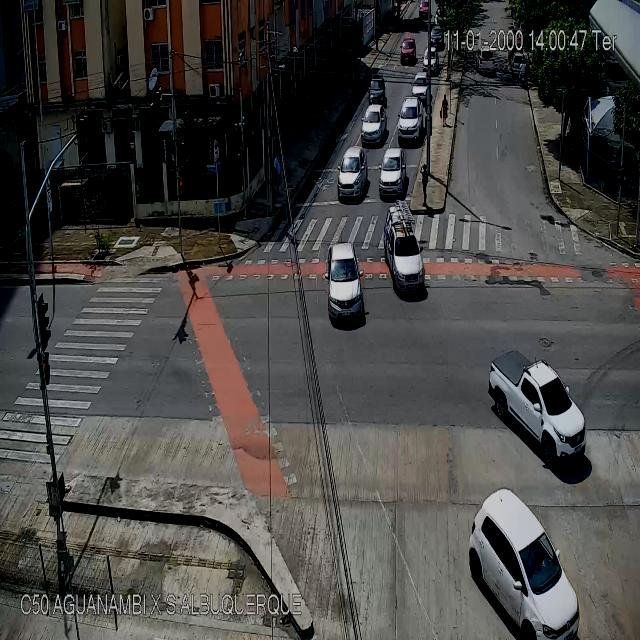Car: (468, 488, 580, 639), (489, 347, 585, 465), (384, 205, 426, 295), (326, 243, 365, 327), (338, 147, 366, 196), (397, 97, 424, 141), (378, 150, 404, 190), (361, 104, 388, 140), (367, 74, 386, 110), (476, 48, 496, 74), (400, 39, 415, 65), (412, 72, 428, 96), (511, 53, 527, 76), (422, 47, 438, 70), (430, 24, 444, 44), (420, 1, 431, 20)
Motorcycle: (518, 57, 528, 84)
